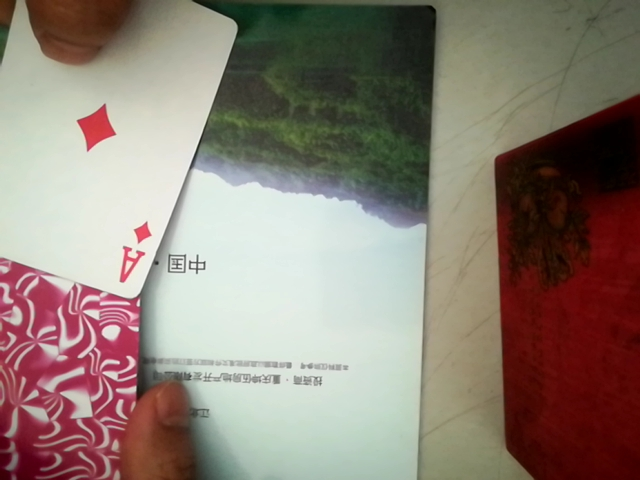fk a: (6, 3, 238, 318)
